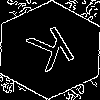K: (25, 25, 83, 81)
